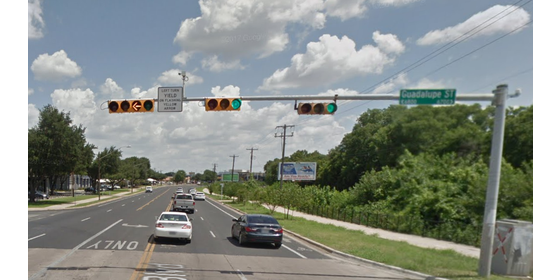left turn yield on flashing yellow arrow sign: (156, 85, 184, 113)
street name sign: (397, 87, 458, 107)
